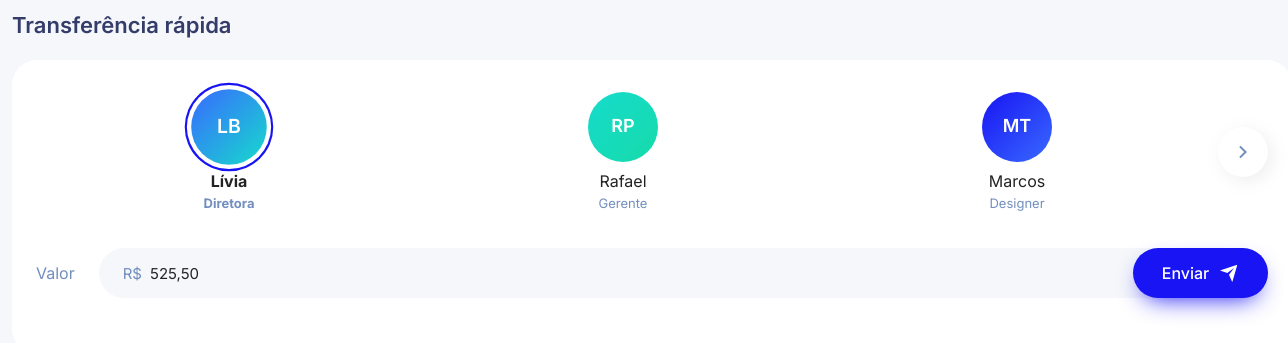
Test case: escolher um contato e enviar confirma na tela
Click the button "RP Rafael Gerente": (623, 152) x1=430 y1=84 x2=816 y2=220
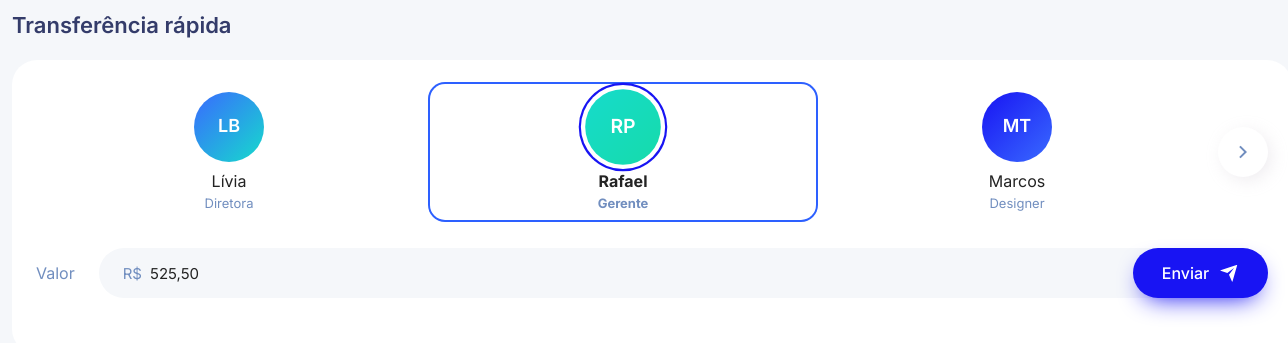
Click the button "Enviar": (1200, 273) x1=1133 y1=248 x2=1268 y2=298
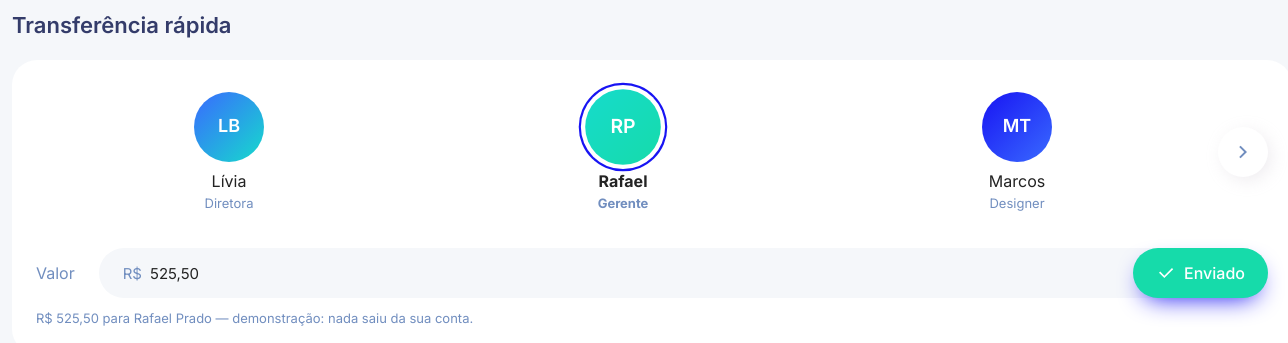
Check: the message reads "R$ 525,50 para Rafael Prado — demonstração: nada saiu da sua conta.", box x1=36 y1=310 x2=473 y2=326
